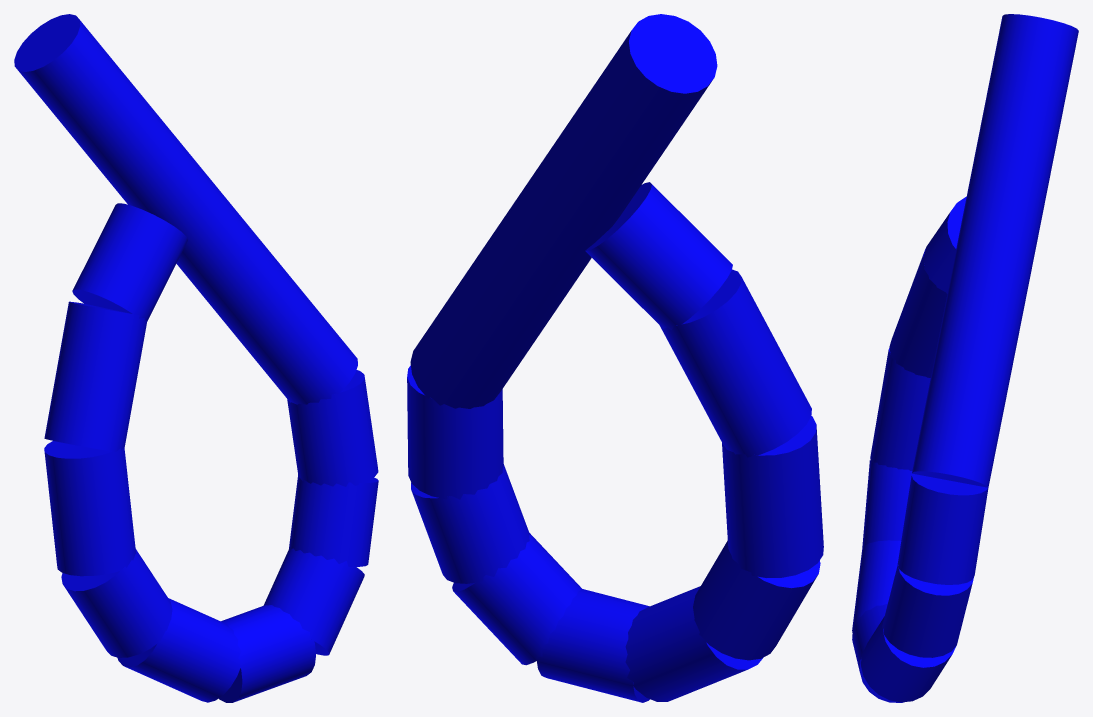
3 renders of one model, left to right at view 1: azimuth 30°, elevation 25°; view 2: azimuth 150°, elevation 25°; view 3: azimuth 270°, elevation 25°, orthographic. The views are drawn at different scales.
Visible parts, largest first — view 1: Cylinder(Clone) (×10); view 2: Cylinder(Clone) (×10); view 3: Cylinder(Clone) (×10).
Boxes of the visible parts, <box> form: Cylinder(Clone) (×10): <box>14,14,378,702</box>; Cylinder(Clone) (×10): <box>407,14,823,702</box>; Cylinder(Clone) (×10): <box>852,14,1078,702</box>.
Bounding box in the file's own units: 0.0471 × 0.0882 × 0.0291.
